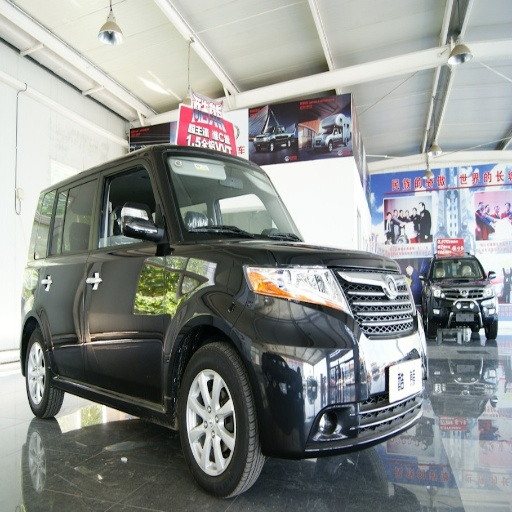back_bumper: (252, 345, 412, 453)
front_bumper: (293, 323, 343, 386)
front_right_door: (85, 158, 170, 393)
